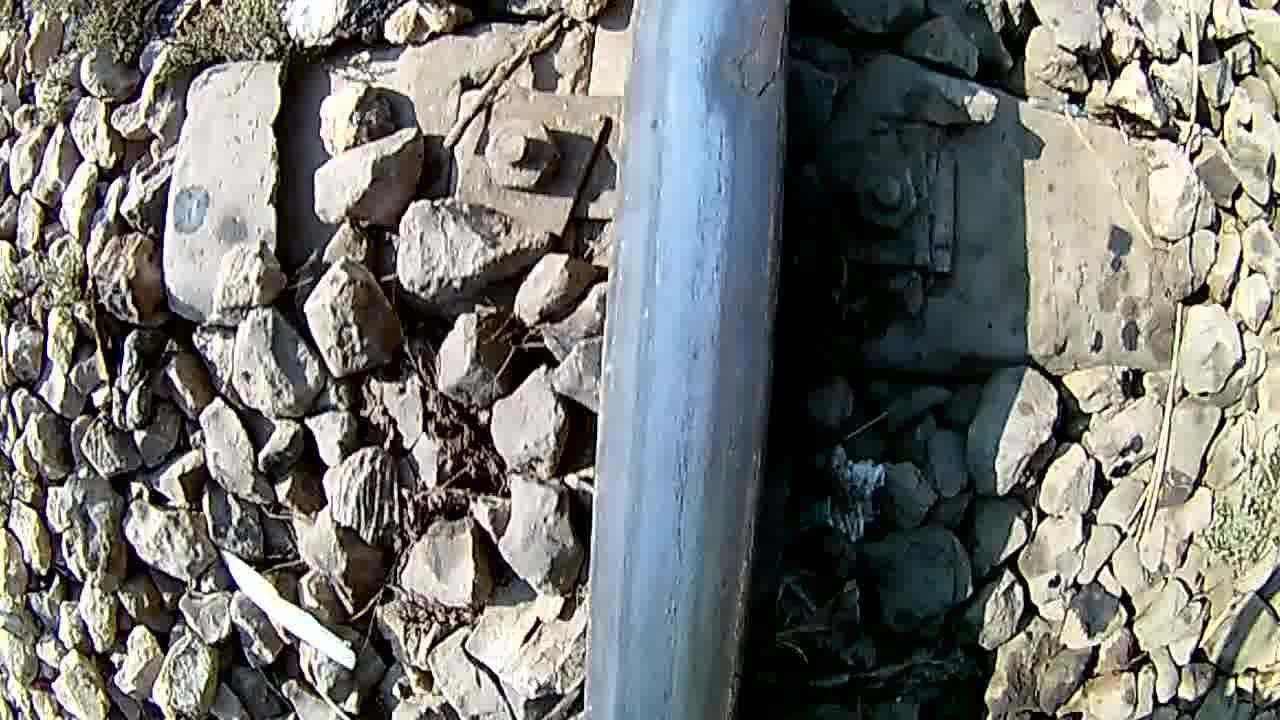bolt_missing: (688, 7, 806, 102)
